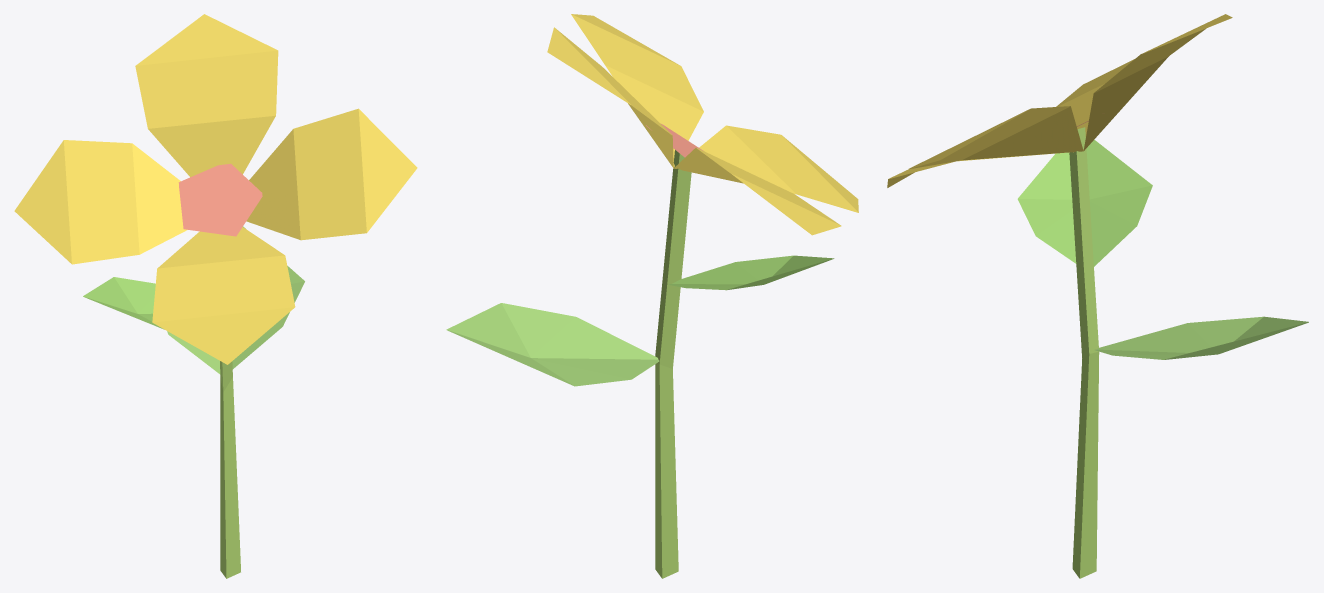
File: Flower_d_TwoS_07.fbx
3 views of the same model, side by side, from view 1: azimuth 30°, elevation 25°; view 2: azimuth 150°, elevation 25°; view 3: azimuth 270°, elevation 25° (orthographic). The views are drawn at different scales.
Visible parts, largest first — view 1: Flower_d_TwoS_07; view 2: Flower_d_TwoS_07; view 3: Flower_d_TwoS_07.
Part boxes in pixels (box(x1,y1,x2,y2)): Flower_d_TwoS_07: box(14, 14, 417, 578); Flower_d_TwoS_07: box(446, 14, 858, 578); Flower_d_TwoS_07: box(887, 14, 1308, 578).
Bounding box in the file's own units: 0.2183 × 0.3502 × 0.232.
